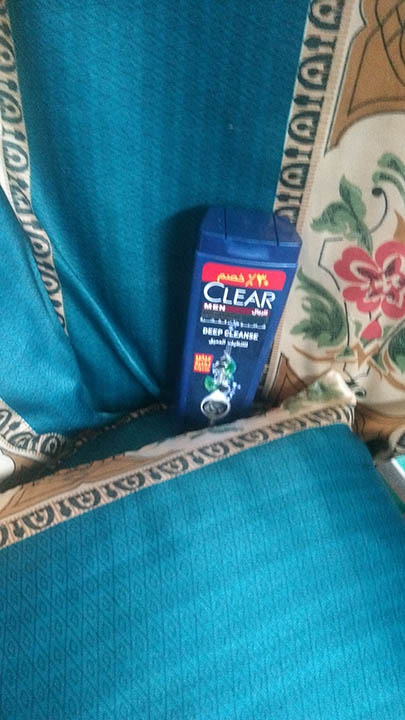Shampoo-Clear 4.7$: (176, 194, 293, 441)
